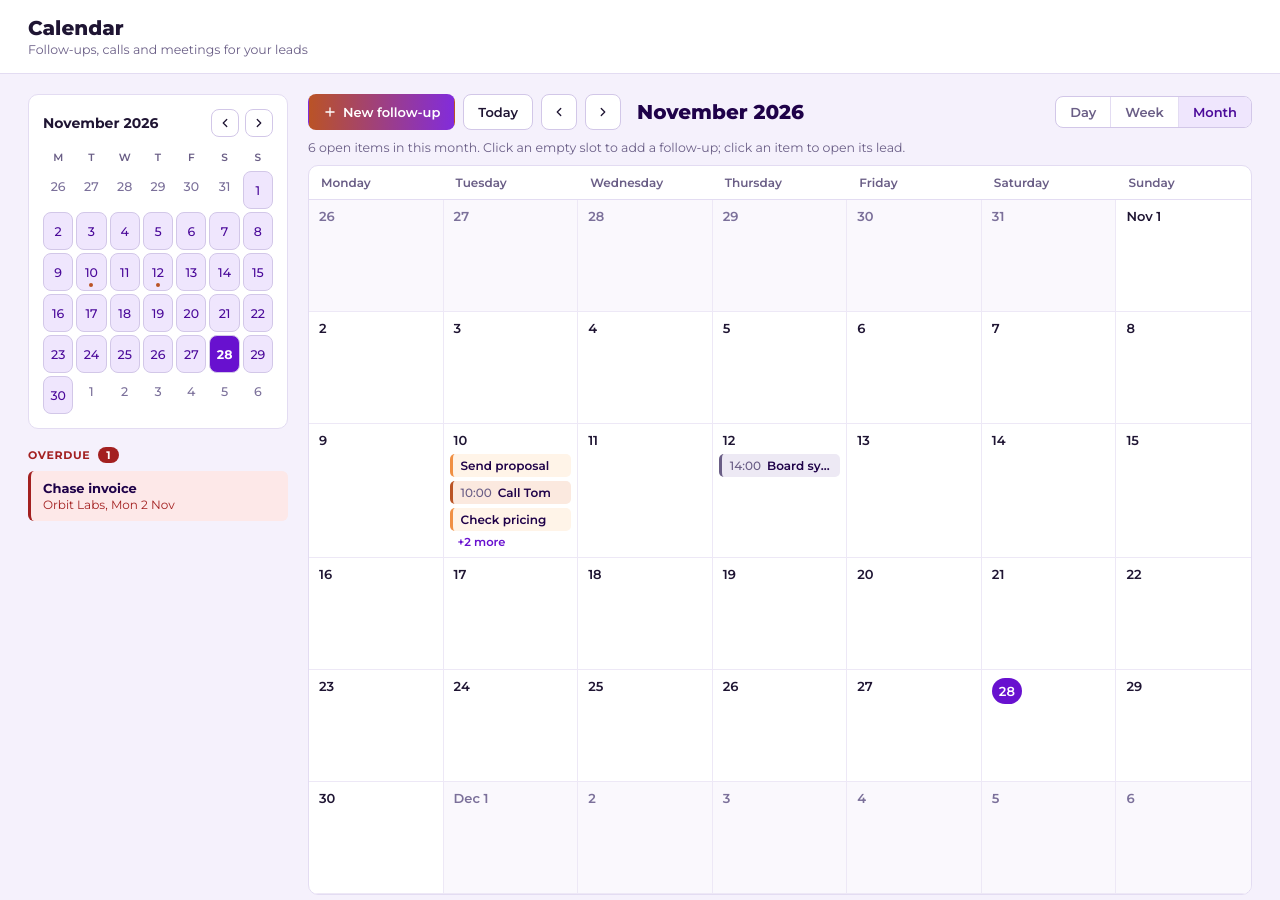
Test case: Calendar page › clicking an empty day opens New follow-up on that date
The image size is (1280, 900).
Expected: the text "Send proposal" is shown, left=461, top=458, right=549, bottom=473
Click the element showing "23" at (376, 726), box left=309, top=670, right=444, bottom=782
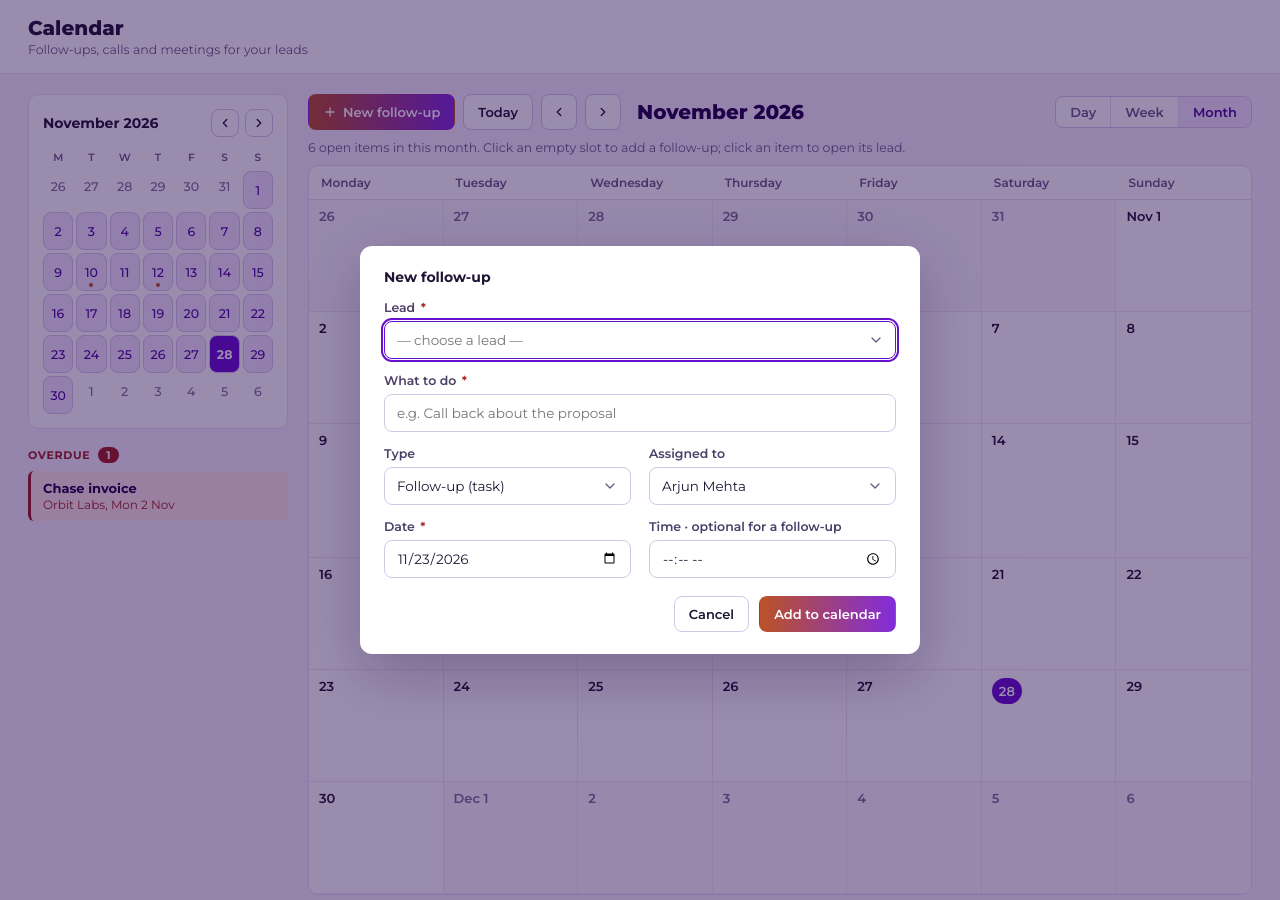
Expected: the date field labelled "Date *" holds "2026-11-23", left=384, top=540, right=631, bottom=578
Expected: the dropdown labelled "Type" shows "Follow-up (task)", left=384, top=467, right=631, bottom=505
Expected: the dropdown labelled "Assigned to" shows "Arjun Mehta", left=649, top=467, right=896, bottom=505
